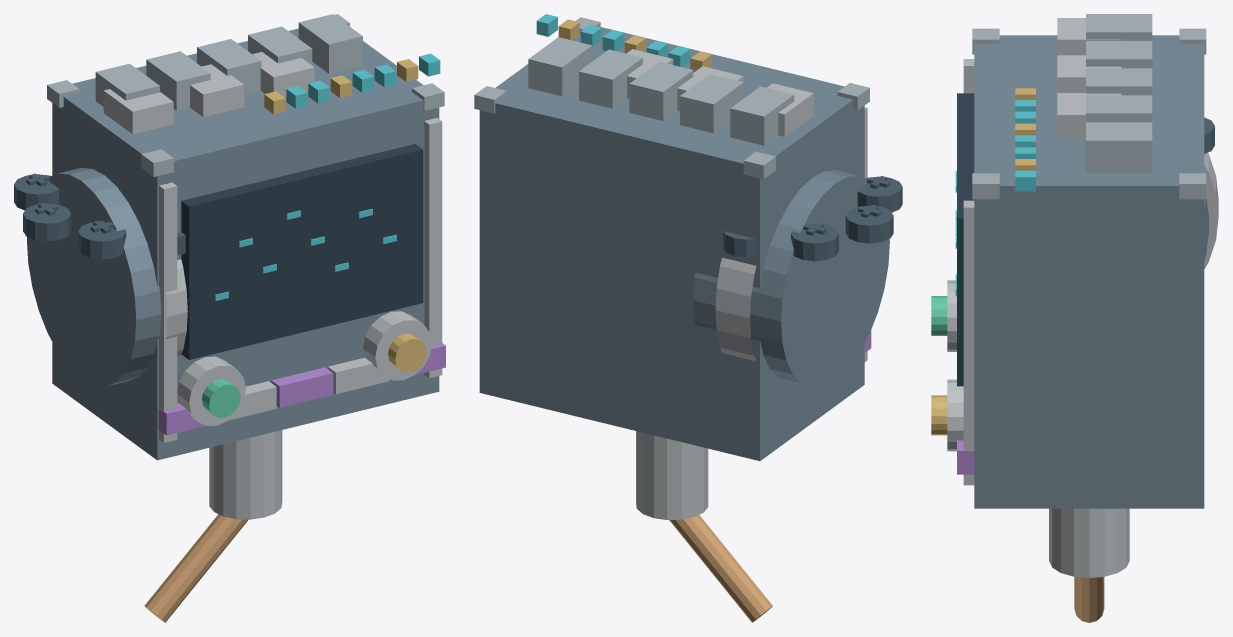
File: 39_L74_ExposureDosePhotodiode.glb
3 renders of one model, left to right at view 1: azimuth 30°, elevation 25°; view 2: azimuth 150°, elevation 25°; view 3: azimuth 270°, elevation 25°, orthographic. The views are drawn at different scales.
Parts seen in each view (by area): view 1: ExposureDosePhotodiode_Node_0000, ExposureDosePhotodiode_Node_0007, ExposureDosePhotodiode_Node_0036, ExposureDosePhotodiode_Node_0034, ExposureDosePhotodiode_Node_0006, ExposureDosePhotodiode_Node_0005, ExposureDosePhotodiode_Node_0035, ExposureDosePhotodiode_Node_0028, ExposureDosePhotodiode_Node_0019, ExposureDosePhotodiode_Node_0017, ExposureDosePhotodiode_Node_0021, ExposureDosePhotodiode_Node_0025 (+17 smaller); view 2: ExposureDosePhotodiode_Node_0000, ExposureDosePhotodiode_Node_0036, ExposureDosePhotodiode_Node_0034, ExposureDosePhotodiode_Node_0035, ExposureDosePhotodiode_Node_0037, ExposureDosePhotodiode_Node_0028, ExposureDosePhotodiode_Node_0025, ExposureDosePhotodiode_Node_0024, ExposureDosePhotodiode_Node_0026, ExposureDosePhotodiode_Node_0027, ExposureDosePhotodiode_Node_0051, ExposureDosePhotodiode_Node_0054 (+7 smaller); view 3: ExposureDosePhotodiode_Node_0000, ExposureDosePhotodiode_Node_0034, ExposureDosePhotodiode_Node_0028, ExposureDosePhotodiode_Node_0007, ExposureDosePhotodiode_Node_0006, ExposureDosePhotodiode_Node_0027, ExposureDosePhotodiode_Node_0025, ExposureDosePhotodiode_Node_0026, ExposureDosePhotodiode_Node_0024, ExposureDosePhotodiode_Node_0023, ExposureDosePhotodiode_Node_0035, ExposureDosePhotodiode_Node_0022 (+13 smaller).
Part boxes in pixels (x1,y1,x2,y2): ExposureDosePhotodiode_Node_0000: (52, 28, 439, 460); ExposureDosePhotodiode_Node_0007: (181, 144, 423, 359); ExposureDosePhotodiode_Node_0036: (27, 168, 161, 386); ExposureDosePhotodiode_Node_0034: (209, 430, 282, 519); ExposureDosePhotodiode_Node_0006: (424, 117, 442, 378); ExposureDosePhotodiode_Node_0005: (159, 182, 177, 442); ExposureDosePhotodiode_Node_0035: (144, 514, 248, 622); ExposureDosePhotodiode_Node_0028: (298, 14, 362, 73); ExposureDosePhotodiode_Node_0019: (363, 311, 431, 380); ExposureDosePhotodiode_Node_0017: (177, 356, 245, 425); ExposureDosePhotodiode_Node_0021: (103, 89, 173, 134); ExposureDosePhotodiode_Node_0025: (146, 51, 210, 110); ExposureDosePhotodiode_Node_0000: (479, 27, 864, 460); ExposureDosePhotodiode_Node_0036: (693, 170, 889, 387); ExposureDosePhotodiode_Node_0034: (636, 431, 708, 519); ExposureDosePhotodiode_Node_0035: (669, 515, 772, 622); ExposureDosePhotodiode_Node_0037: (715, 257, 756, 360); ExposureDosePhotodiode_Node_0028: (528, 37, 592, 96); ExposureDosePhotodiode_Node_0025: (680, 74, 743, 133); ExposureDosePhotodiode_Node_0024: (730, 86, 794, 145); ExposureDosePhotodiode_Node_0026: (629, 61, 693, 120); ExposureDosePhotodiode_Node_0027: (579, 49, 642, 108); ExposureDosePhotodiode_Node_0051: (845, 205, 893, 243); ExposureDosePhotodiode_Node_0054: (791, 223, 838, 261); ExposureDosePhotodiode_Node_0000: (974, 35, 1204, 508); ExposureDosePhotodiode_Node_0034: (1049, 508, 1129, 577); ExposureDosePhotodiode_Node_0028: (1086, 122, 1152, 172); ExposureDosePhotodiode_Node_0007: (957, 93, 974, 386); ExposureDosePhotodiode_Node_0006: (963, 200, 974, 485); ExposureDosePhotodiode_Node_0027: (1086, 95, 1152, 122); ExposureDosePhotodiode_Node_0025: (1086, 41, 1152, 68); ExposureDosePhotodiode_Node_0026: (1086, 68, 1152, 95); ExposureDosePhotodiode_Node_0024: (1086, 14, 1152, 40); ExposureDosePhotodiode_Node_0023: (1057, 93, 1121, 139); ExposureDosePhotodiode_Node_0035: (1074, 577, 1104, 622); ExposureDosePhotodiode_Node_0022: (1057, 55, 1121, 92).
Bounding box in the file's own units: 0.602 × 0.8138 × 0.36.
